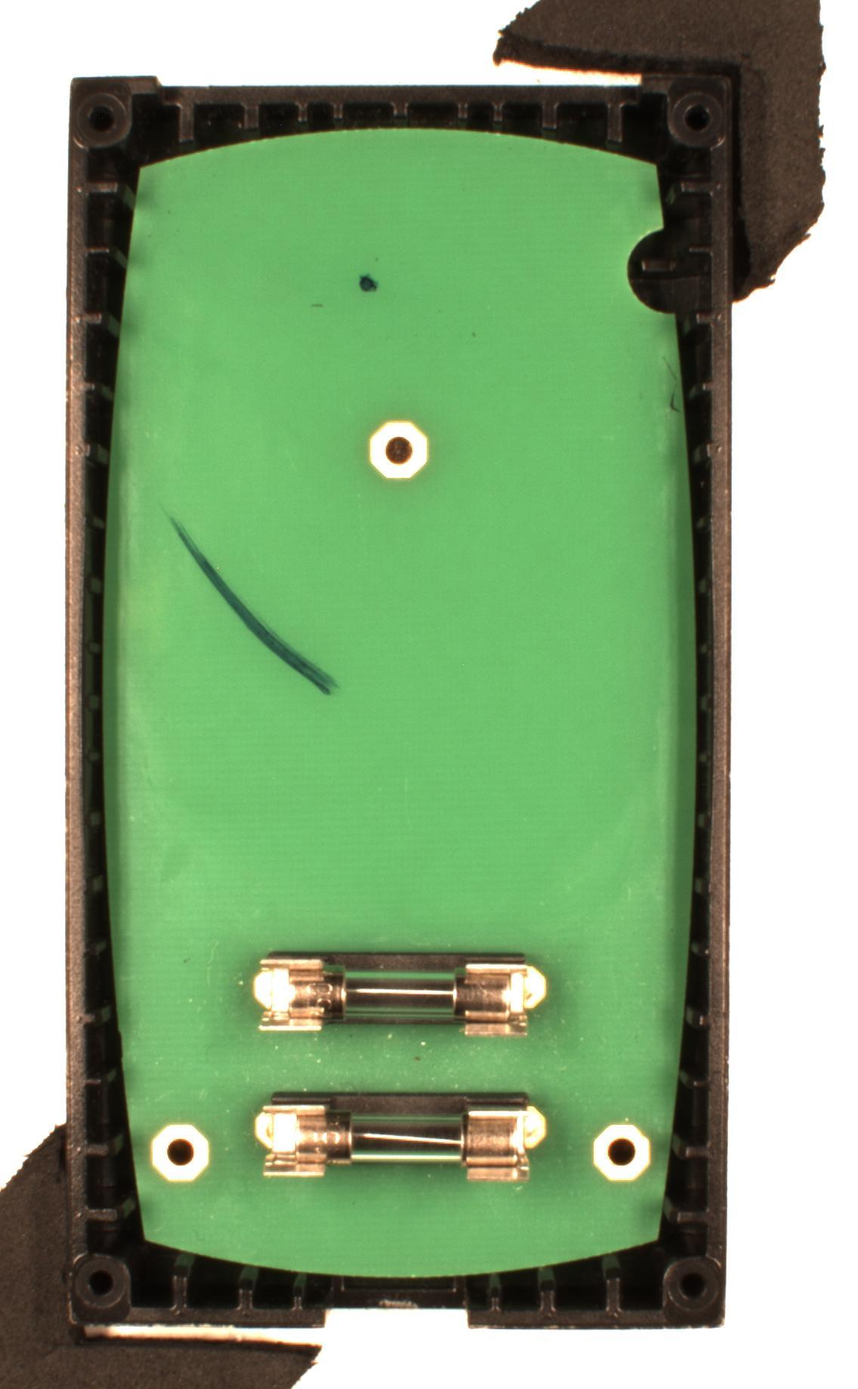Linijsko Ostecene: (156, 503, 340, 698)
Tockasto Ostecenje: (357, 271, 382, 295)
